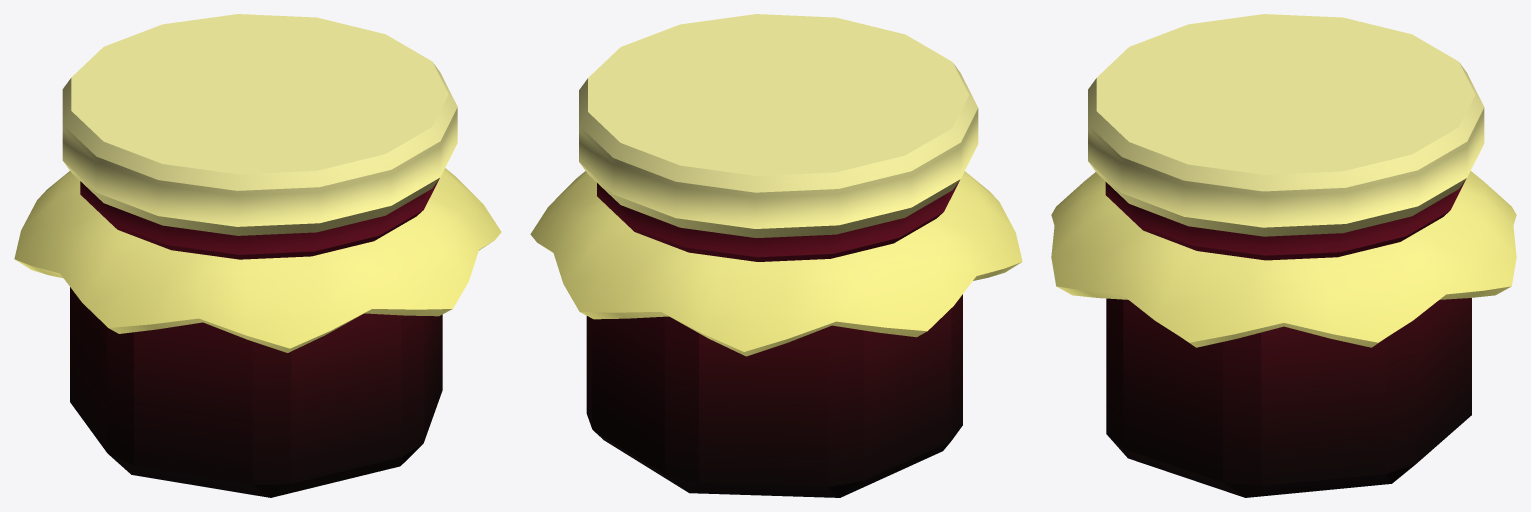
File: jam_black.fbx
The picture shows the model from 3 angles, left to right: view 1: azimuth 30°, elevation 25°; view 2: azimuth 150°, elevation 25°; view 3: azimuth 270°, elevation 25°; orthographic projection.
Visible parts, largest first — view 1: jam_black; view 2: jam_black; view 3: jam_black.
Part boxes in pixels (bbox=[...]): jam_black: bbox=[14, 14, 501, 497]; jam_black: bbox=[530, 14, 1022, 497]; jam_black: bbox=[1051, 14, 1516, 497].
Bounding box in the file's own units: 65.2 × 51.35 × 65.2.
